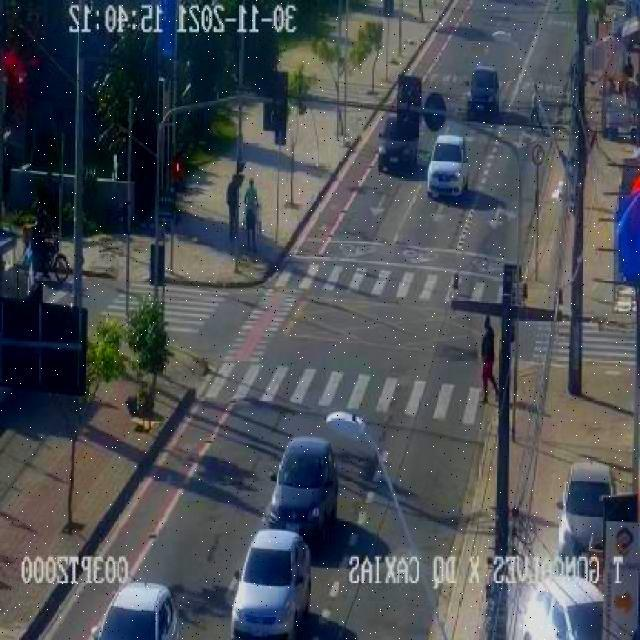Car: (229, 529, 311, 640), (267, 436, 341, 541), (556, 462, 620, 560), (518, 570, 604, 640), (85, 580, 180, 640), (426, 132, 469, 199), (378, 111, 419, 173), (463, 66, 502, 120)
Cycle: (22, 223, 72, 284)
